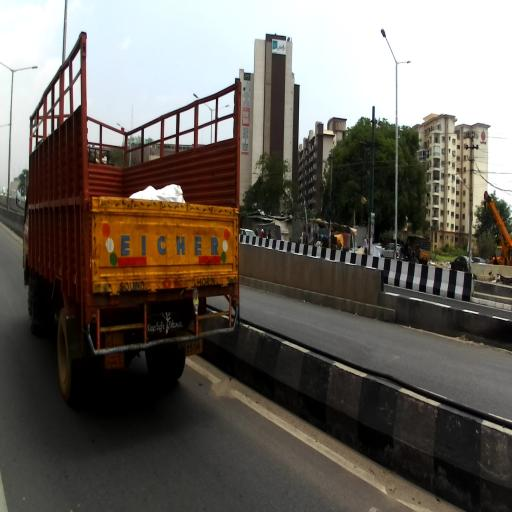street_light_0: (380, 26, 398, 66), (12, 62, 38, 76), (193, 93, 213, 110), (116, 120, 133, 138), (395, 58, 412, 72), (129, 136, 146, 147), (0, 120, 13, 132), (211, 106, 230, 114)
